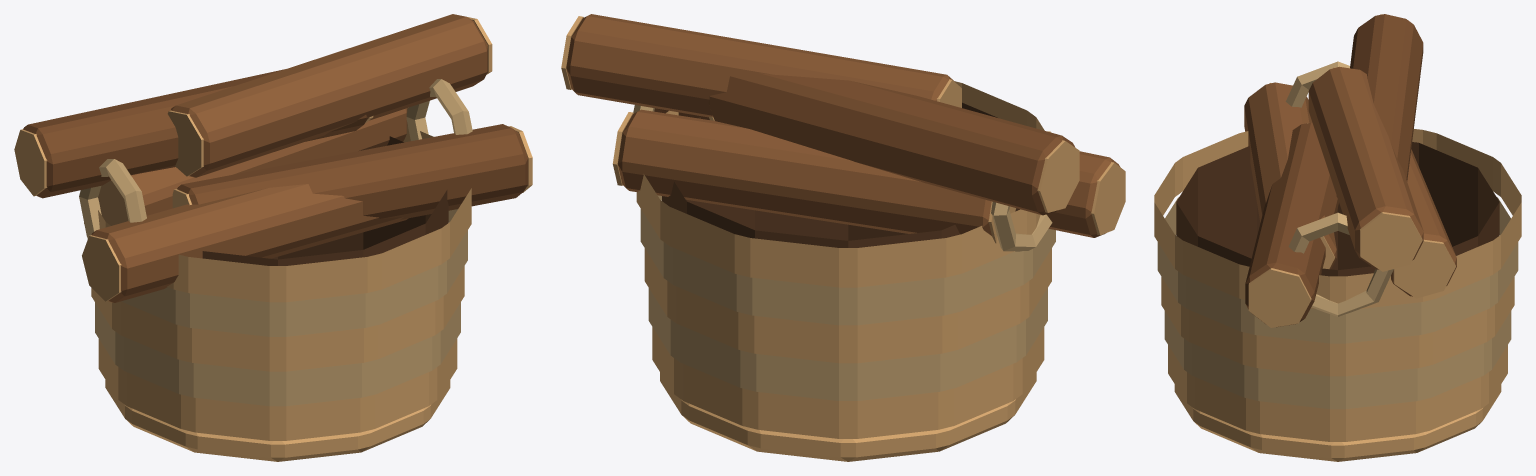
File: log_basket.glb
3 renders of one model, left to right at view 1: azimuth 30°, elevation 25°; view 2: azimuth 150°, elevation 25°; view 3: azimuth 270°, elevation 25°, orthographic. The views are drawn at different scales.
Parts seen in each view (by area): view 1: log_basket; view 2: log_basket; view 3: log_basket.
Boxes of the visible parts, left/top/right/bottom form: log_basket: left=14, top=14, right=532, bottom=461; log_basket: left=561, top=14, right=1125, bottom=461; log_basket: left=1154, top=14, right=1521, bottom=461.
Bounding box in the file's own units: 0.7134 × 0.4618 × 0.5338.
